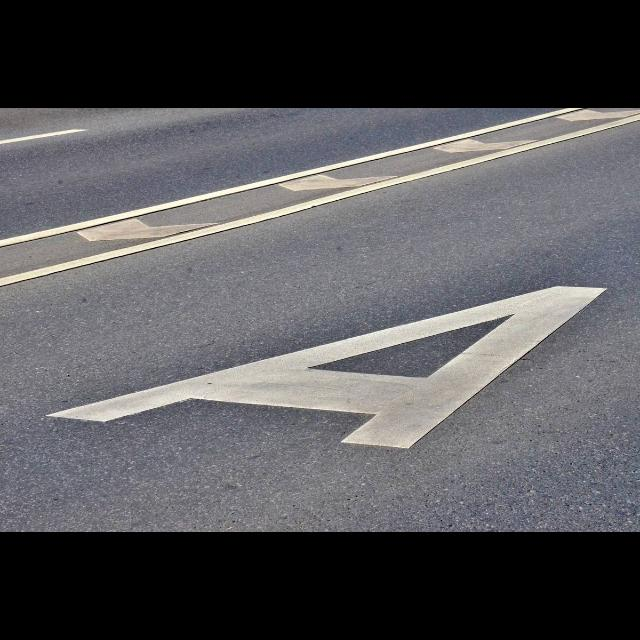road: (0, 108, 639, 531)
